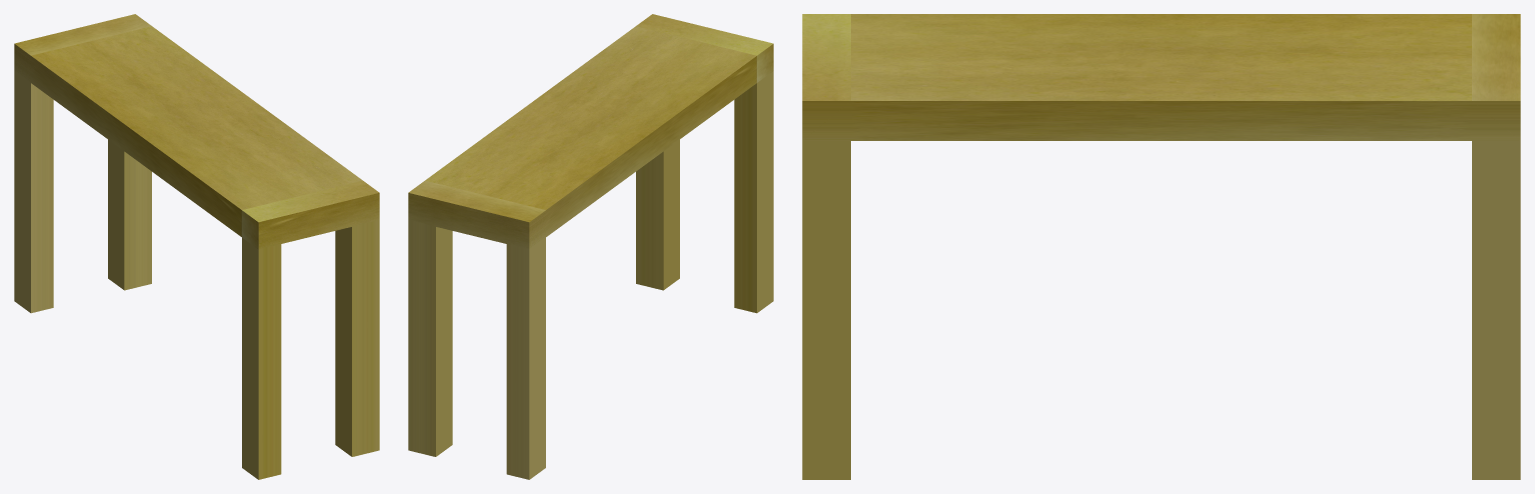
Rendered from table.obj.
3 views of the same model, side by side, from view 1: azimuth 30°, elevation 25°; view 2: azimuth 150°, elevation 25°; view 3: azimuth 270°, elevation 25° (orthographic). The views are drawn at different scales.
Parts seen in each view (by area): view 1: Table_Cube; view 2: Table_Cube; view 3: Table_Cube.
Boxes of the visible parts, x1,y1,x2,y2 form: Table_Cube: (14,14,379,479); Table_Cube: (408,14,773,479); Table_Cube: (802,14,1520,479).
Bounding box in the file's own units: 0.9772 × 1.99 × 3.41.
